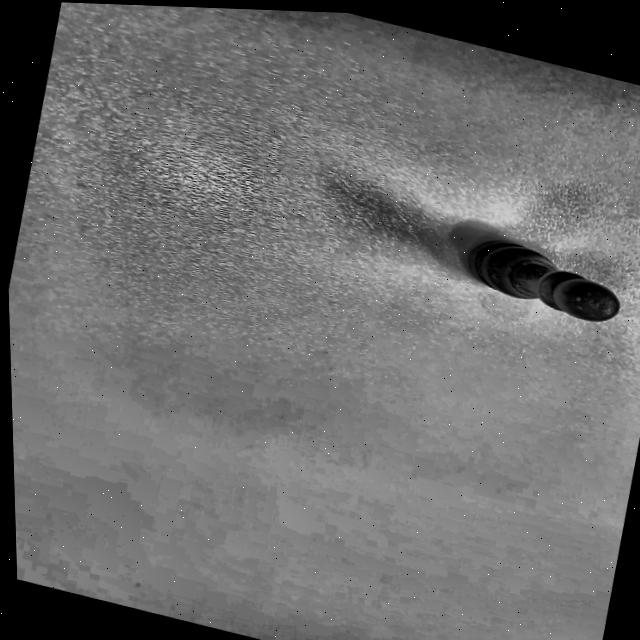black-pawn: (450, 225, 634, 338)
